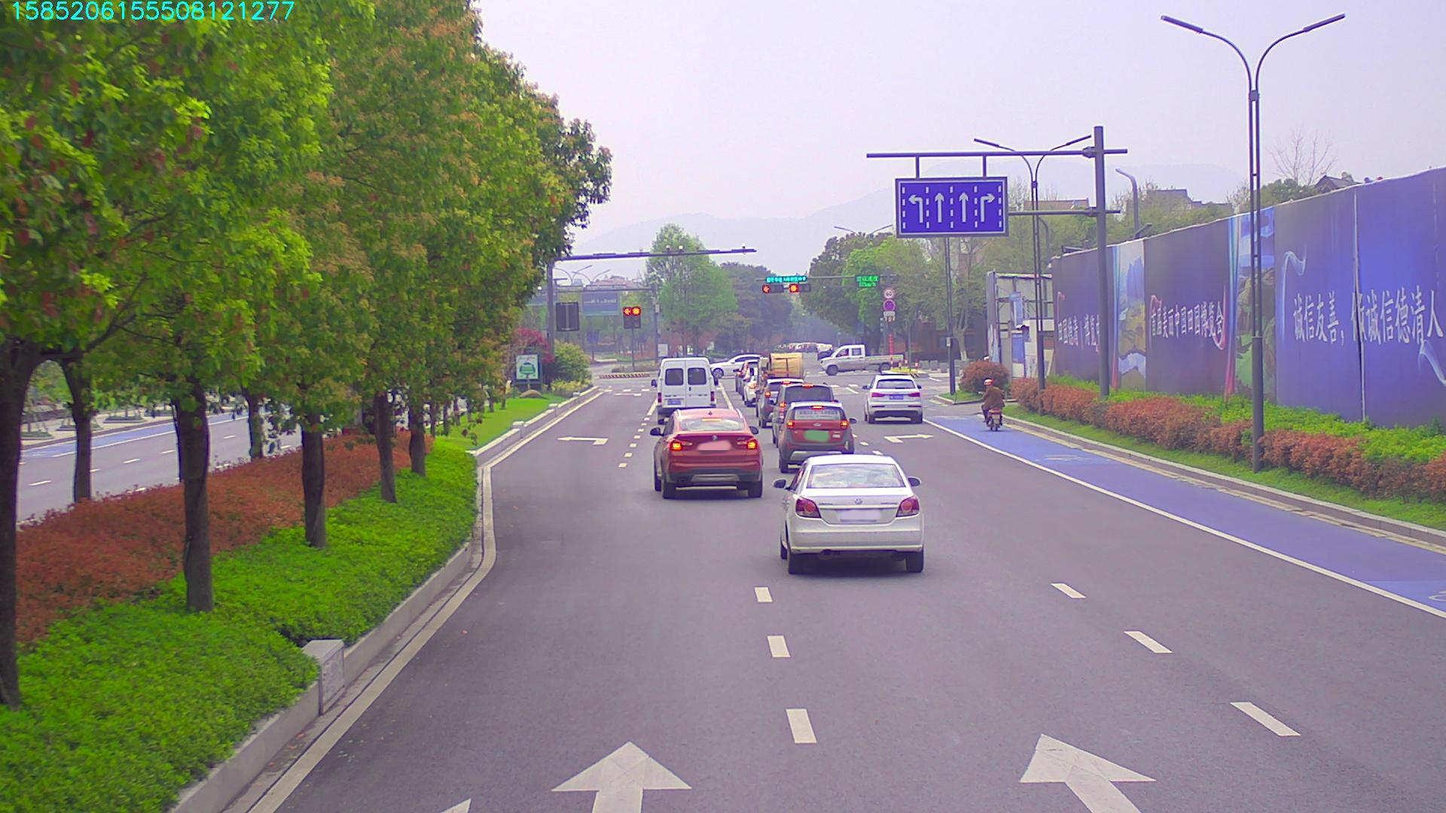red: (789, 284, 809, 297), (759, 282, 782, 293)
wait_on: (764, 273, 806, 284)
